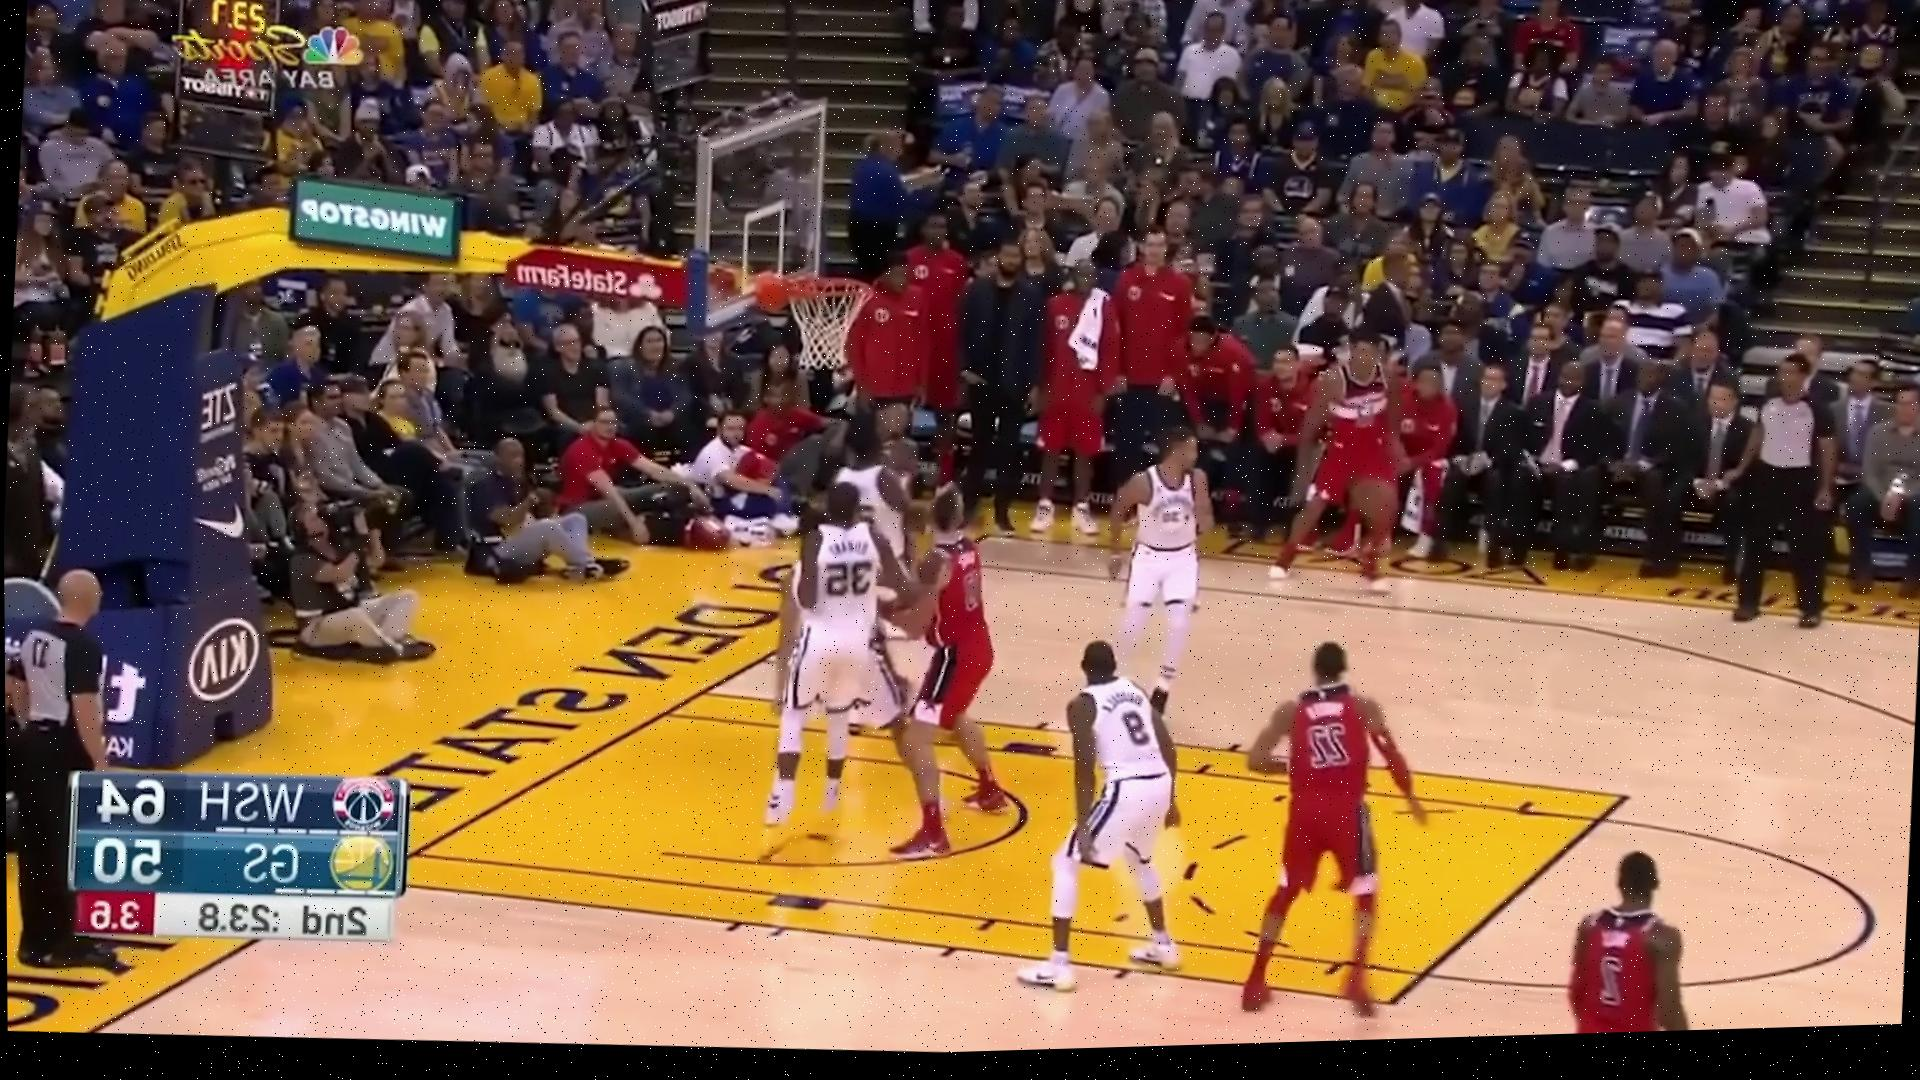no_foul: (750, 425, 1000, 799)
